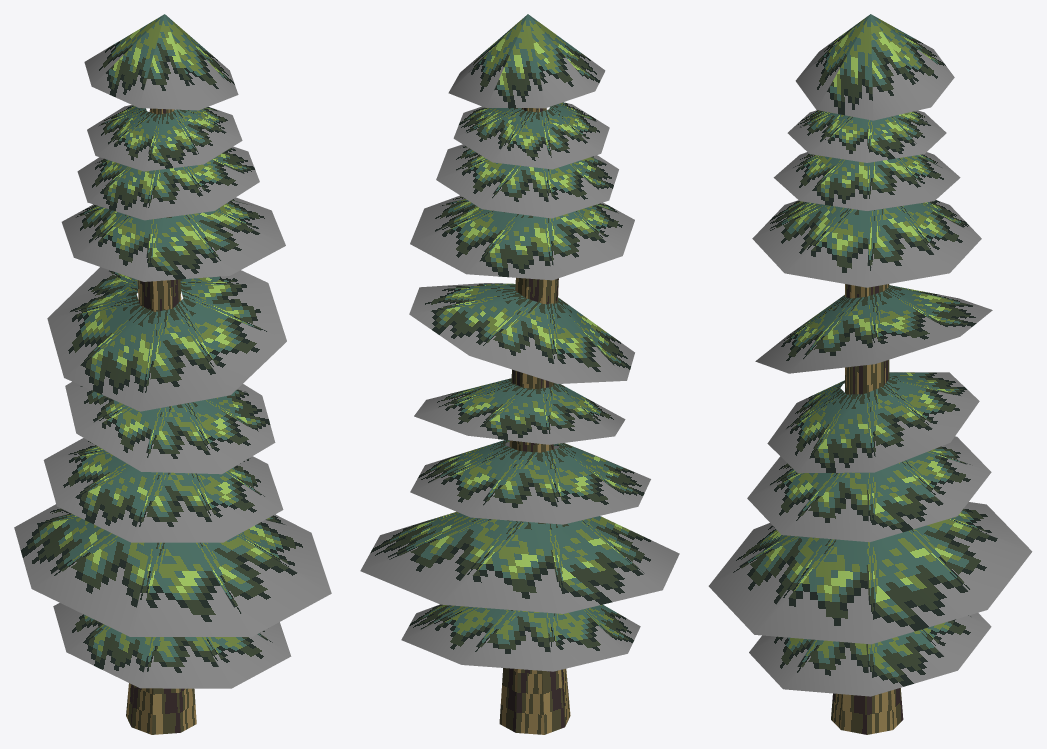
The model's file is tree_tall_3d.glb.
3 views of the same model, side by side, from view 1: azimuth 30°, elevation 25°; view 2: azimuth 150°, elevation 25°; view 3: azimuth 270°, elevation 25° (orthographic).
Visible parts, largest first — view 1: Cube.001; view 2: Cube.001; view 3: Cube.001.
Part boxes in pixels (x1,y1,x2,y2): Cube.001: (14,14,331,734); Cube.001: (360,14,679,734); Cube.001: (708,14,1032,734).
Size of the model in its own units: 2.06 by 4.92 by 2.04.
1 material, 1 textured.
